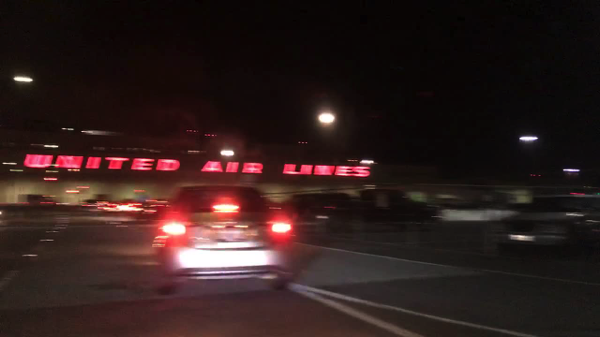car: (155, 184, 297, 291), (494, 191, 597, 251), (138, 202, 167, 223), (26, 194, 56, 209), (98, 202, 118, 213), (115, 202, 134, 213), (82, 199, 99, 211)
truck: (284, 188, 441, 234)
